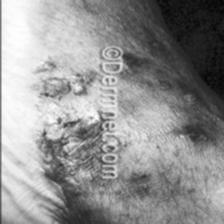Non-Cancerous Skin Condition: (16, 40, 97, 214), (154, 90, 214, 168), (122, 40, 172, 100)
